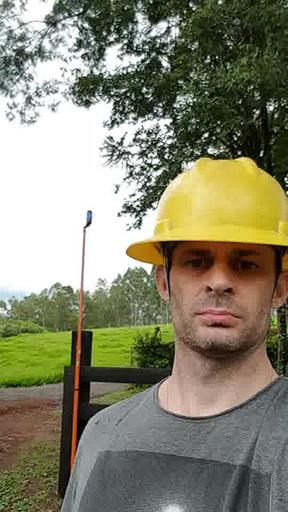Vara_Manobra: (69, 229, 88, 482)
